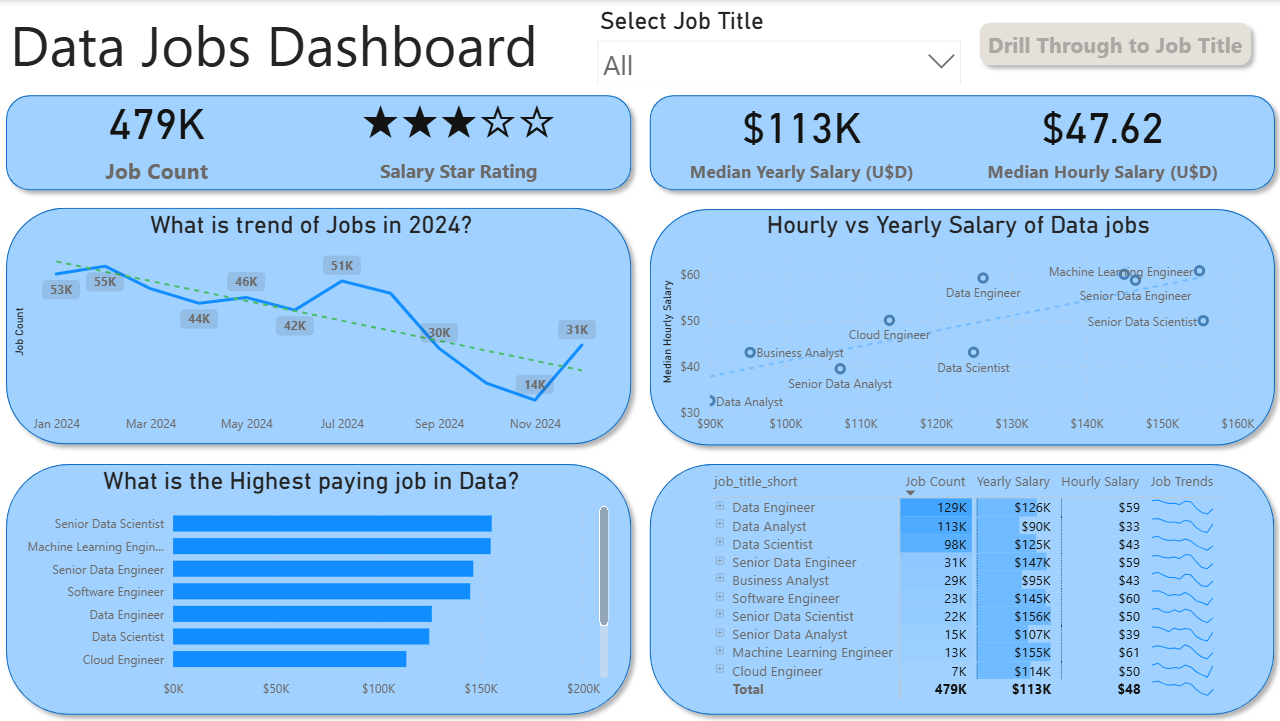

The dashboard page shown, as its layout file describes it:
{"tool":"powerbi","page":{"name":"Data Jobs Dashboard","canvas":[1280,720],"ordinal":0},"visuals":[{"type":"shape","box":[0,85.4,640.1,112.4],"z":0,"group":"g1"},{"type":"group","id":"g1","title":"Background","box":[0,85.4,1280.3,634.5],"z":0},{"type":"textbox","box":[0,0,551.1,88.3],"z":1000},{"type":"shape","box":[640.1,85.4,640.1,112.4],"z":1000,"group":"g1"},{"type":"slicer","fields":{"Values":["job_postings_flat.job_title_short"]},"box":[586.7,1.5,381.9,83.4],"z":2000},{"type":"shape","box":[0,197.8,640.1,253.2],"z":2000,"group":"g1"},{"type":"cardVisual","fields":{"Data":["Median(job_postings_flat.salary_year_avg)"]},"box":[656.8,97,288.6,89.6],"z":3000},{"type":"shape","box":[640.1,199.2,640.1,253.2],"z":3000,"group":"g1"},{"type":"cardVisual","fields":{"Data":["Median(job_postings_flat.salary_hour_avg)"]},"box":[945.4,97,311,89.6],"z":4000},{"type":"shape","box":[0,452.4,640.1,267.4],"z":4000,"group":"g1"},{"type":"cardVisual","fields":{"Data":["CountNonNull(job_postings_flat.job_title_short)"]},"box":[12.4,97,293.6,89.6],"z":5000},{"type":"shape","box":[640.6,451.9,639.4,267.5],"z":5000,"group":"g1"},{"type":"cardVisual","fields":{"Data":["job_postings_flat.Salary Star Rating"]},"box":[306,97,307.3,89.6],"z":6000},{"type":"lineChart","title":"What is trend of Jobs in 2024?","fields":{"Category":["job_postings_flat.job_posted_date.Variation.Date Hierarchy.Year","job_postings_flat.job_posted_date.Variation.Date Hierarchy.Quarter","job_postings_flat.job_posted_date.Variation.Date Hierarchy.Month","job_postings_flat.job_posted_date.Variation.Date Hierarchy.Day"],"Y":["CountNonNull(job_postings_flat.job_title_short)"]},"box":[12.4,209,600.8,231.4],"z":7000},{"type":"barChart","title":"What is the Highest paying job in Data? ","fields":{"Category":["job_postings_flat.job_title_short"],"Y":["Median(job_postings_flat.salary_year_avg)"]},"box":[12.4,464,600.8,240.1],"z":8000},{"type":"scatterChart","title":"Hourly vs Yearly Salary of Data jobs","fields":{"Series":["job_postings_flat.job_title_short"],"X":["Median(job_postings_flat.salary_year_avg)"],"Y":["Median(job_postings_flat.salary_hour_avg)"]},"box":[656.8,209,599.6,231.4],"z":9000},{"type":"pivotTable","fields":{"Rows":["job_postings_flat.job_title_short","job_postings_flat.job_posted_date.Variation.Date Hierarchy.Quarter"],"Values":["CountNonNull(job_postings_flat.job_title_short)","Median(job_postings_flat.salary_year_avg)","Median(job_postings_flat.salary_hour_avg)","SparklineData(CountNonNull(job_postings_flat.job_title_short)_[job_postings_flat.job_posted_date.Variation.Date Hierarch"]},"box":[704.1,464,528.7,240.1],"z":10000},{"type":"actionButton","box":[969,13.7,287.4,59.7],"z":11000}]}

Visuals, with their boxes in screenshot pixels (x1, y1, x2, y2), scaled from the page's 1280x720 canvas onto the 1280x721 screenshot:
shape: 0/86/640/198
"Background" group: 0/86/1279/720
textbox: 0/0/551/88
shape: 640/86/1279/198
slicer - job_postings_flat.job_title_short: 587/2/969/85
shape: 0/198/640/452
cardVisual - Median(job_postings_flat.salary_year_avg): 657/97/945/187
shape: 640/199/1279/453
cardVisual - Median(job_postings_flat.salary_hour_avg): 945/97/1256/187
shape: 0/453/640/720
cardVisual - CountNonNull(job_postings_flat.job_title_short): 12/97/306/187
shape: 641/453/1279/720
cardVisual - job_postings_flat.Salary Star Rating: 306/97/613/187
"What is trend of Jobs in 2024?" lineChart: 12/209/613/441
"What is the Highest paying job in Data? " barChart: 12/465/613/705
"Hourly vs Yearly Salary of Data jobs" scatterChart: 657/209/1256/441
pivotTable - job_postings_flat.job_title_short x job_postings_flat.job_posted_date.Variation.Date Hierarchy.Quarter: 704/465/1233/705
actionButton: 969/14/1256/74
